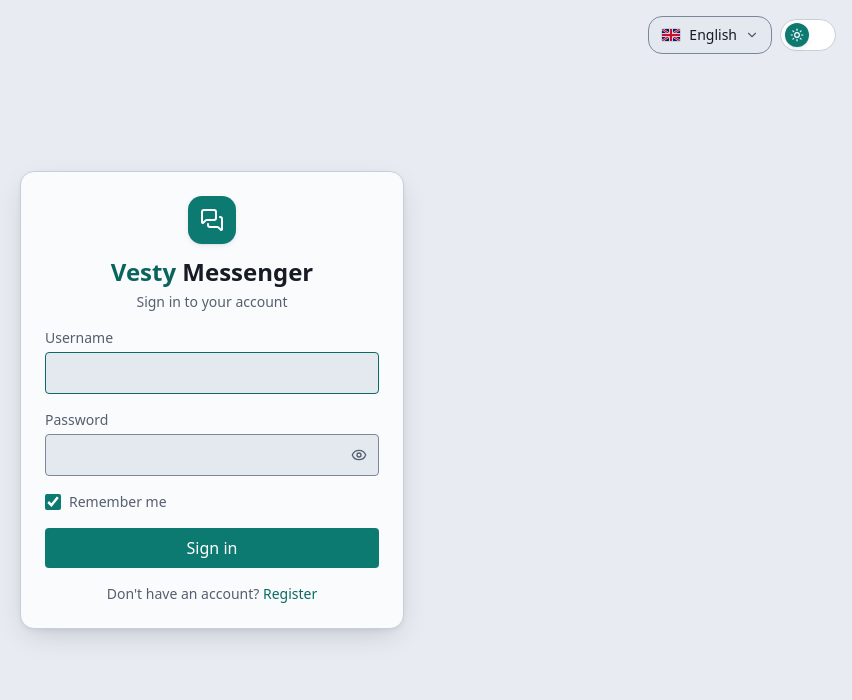
Test case: LoginPage › asks a locked out user to wait
In the field labelled "Username": (212, 373) 45,352 -> 379,394, type "petya"
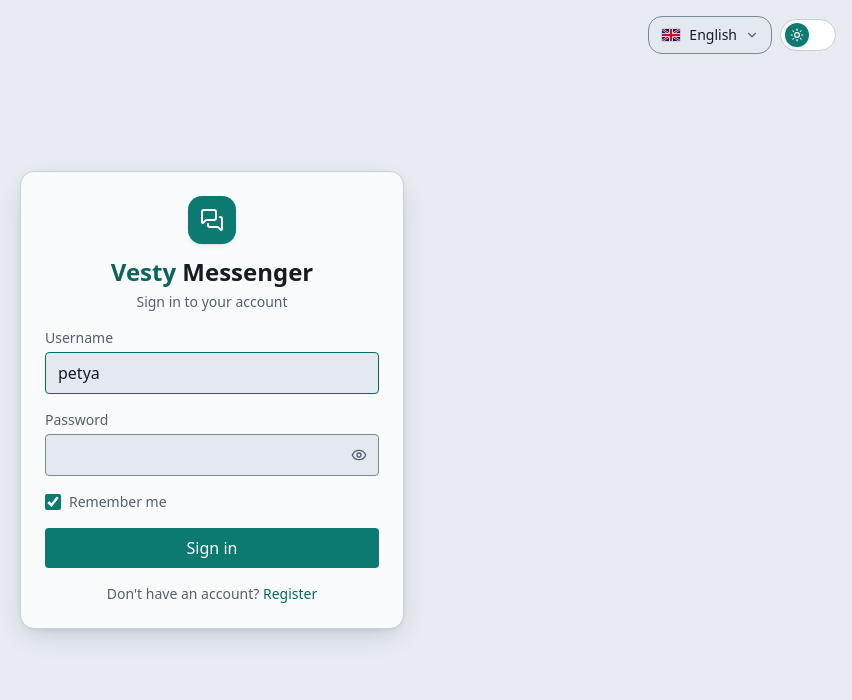
In the password field labelled "Password": (212, 455) 45,434 -> 379,476, type "Secret1"
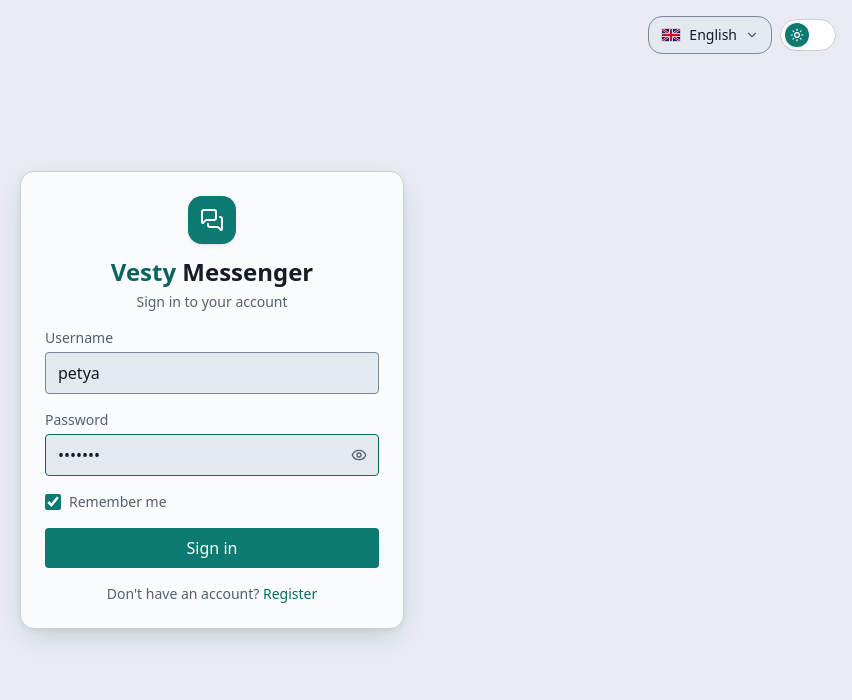
Click the button "Sign in": (212, 548) 45,528 -> 379,568
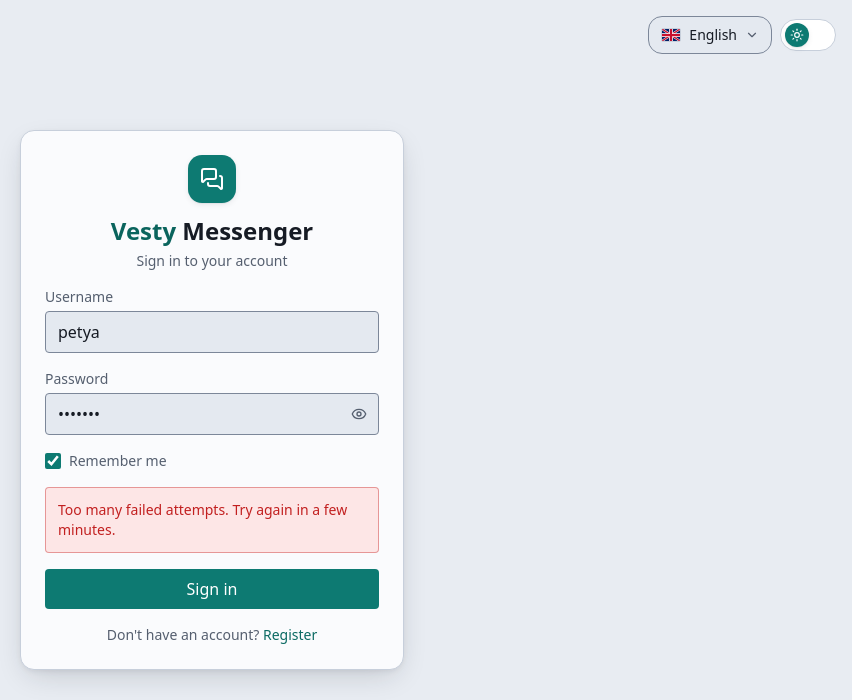
Expected: the text "Too many failed attempts. Try again in a few minutes." is shown, 45,487 -> 379,553
